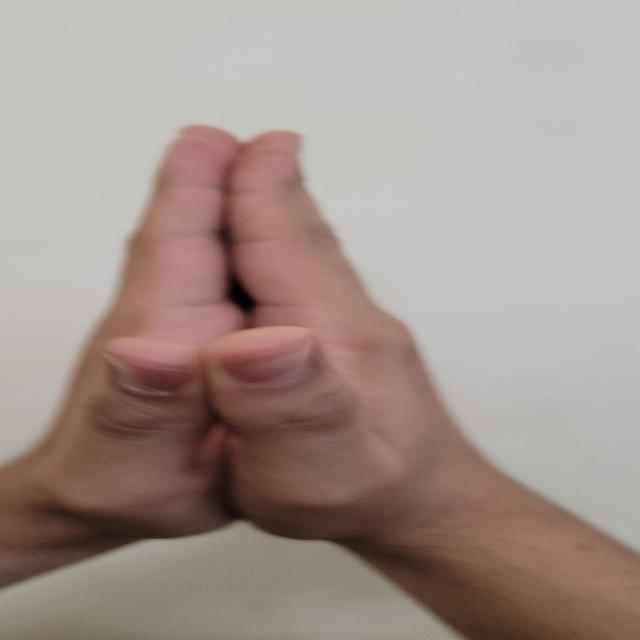Thank You: (33, 84, 577, 595)
